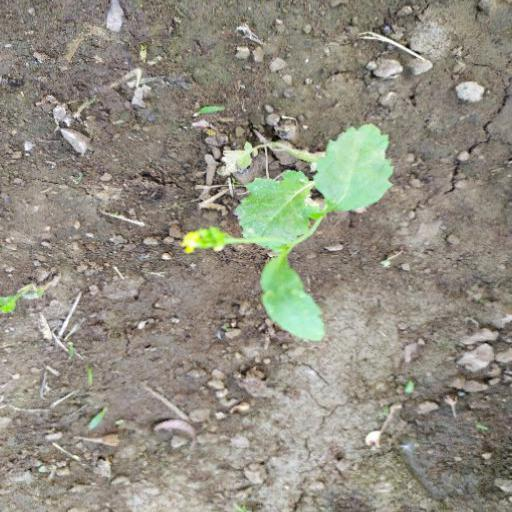weed: (192, 124, 394, 354)
